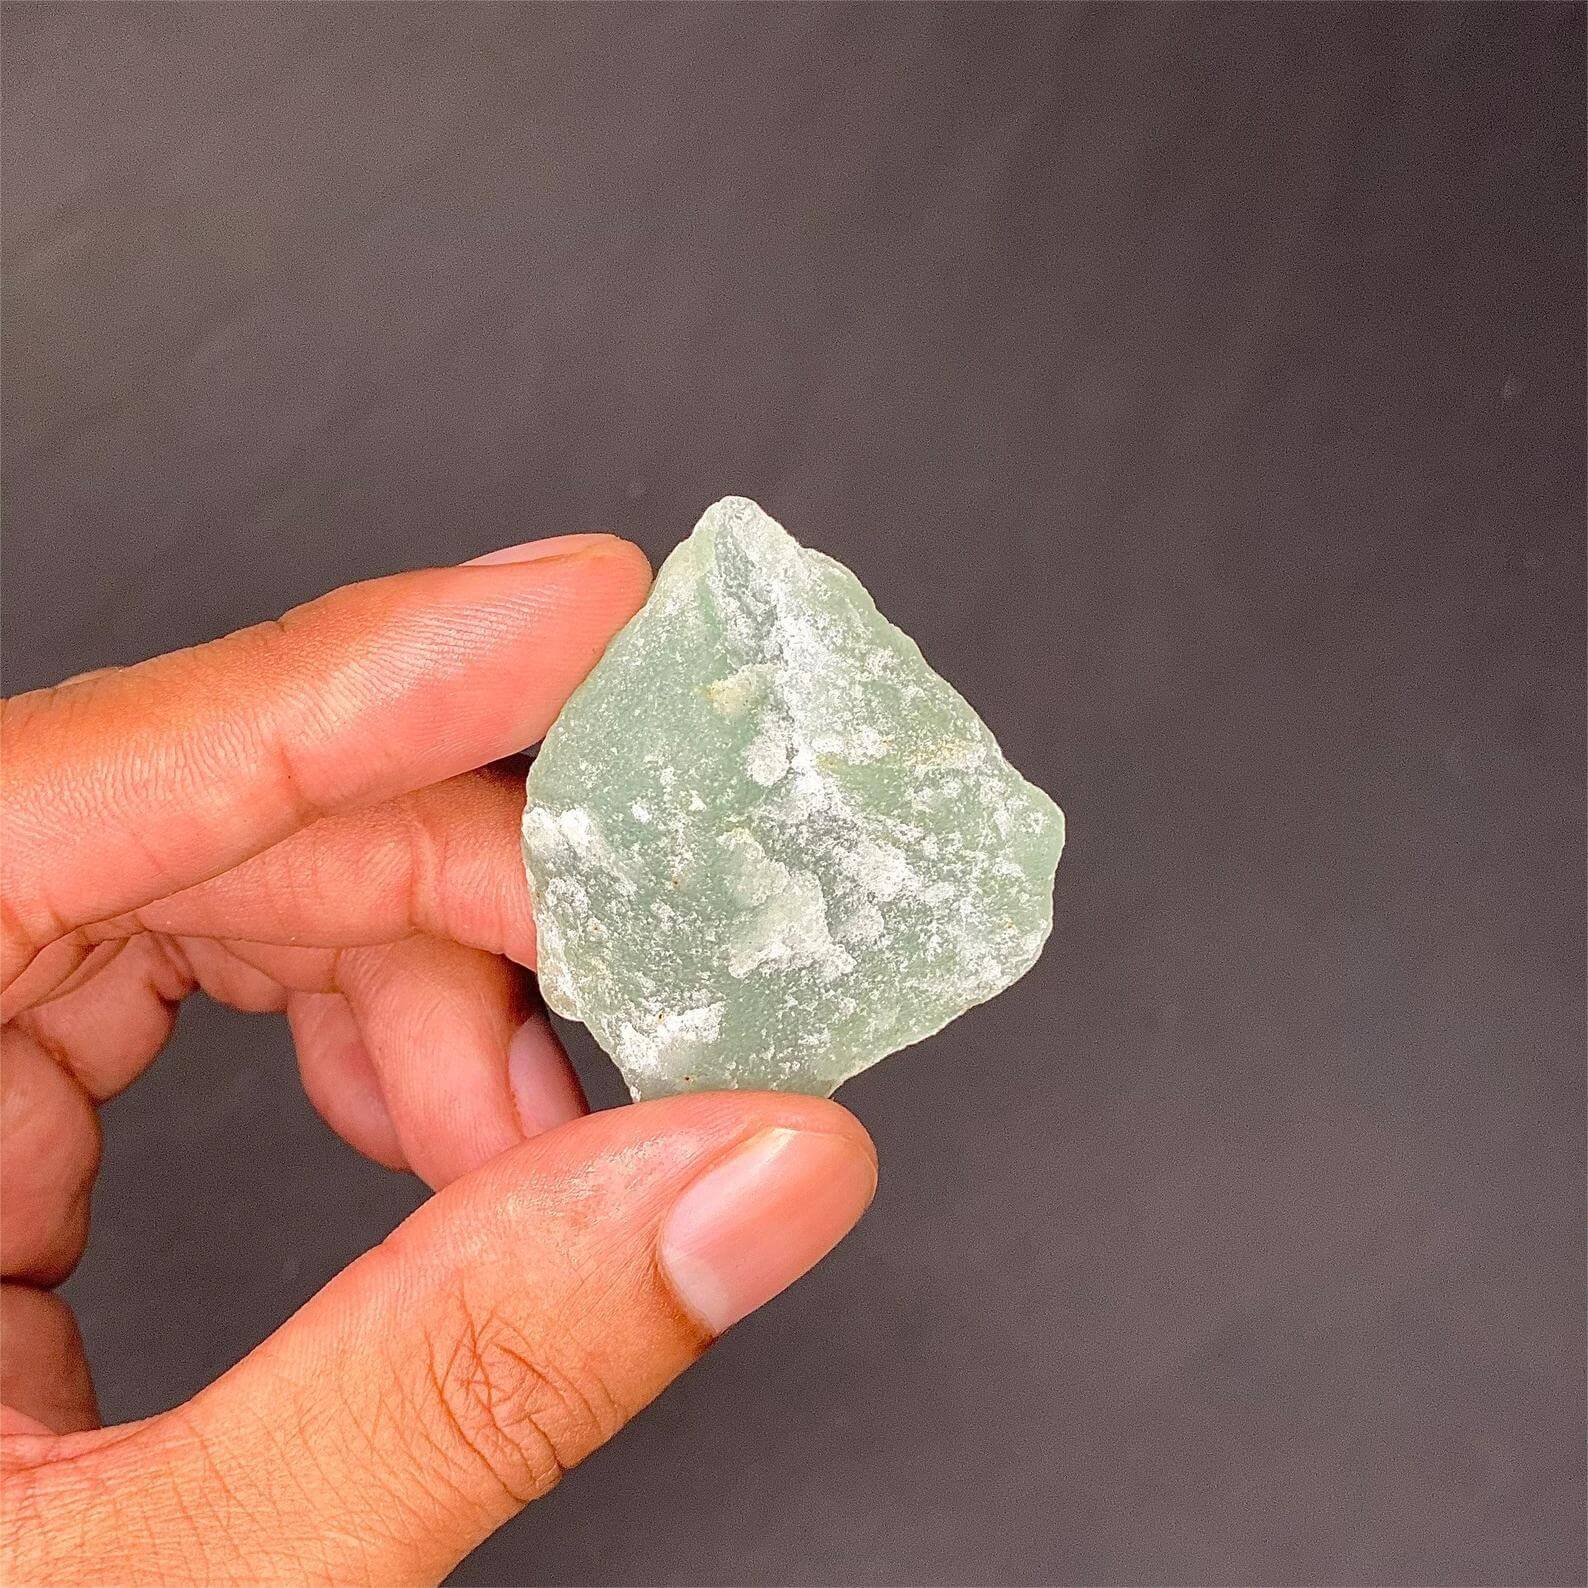Aventurine: (513, 486, 1080, 1126)
